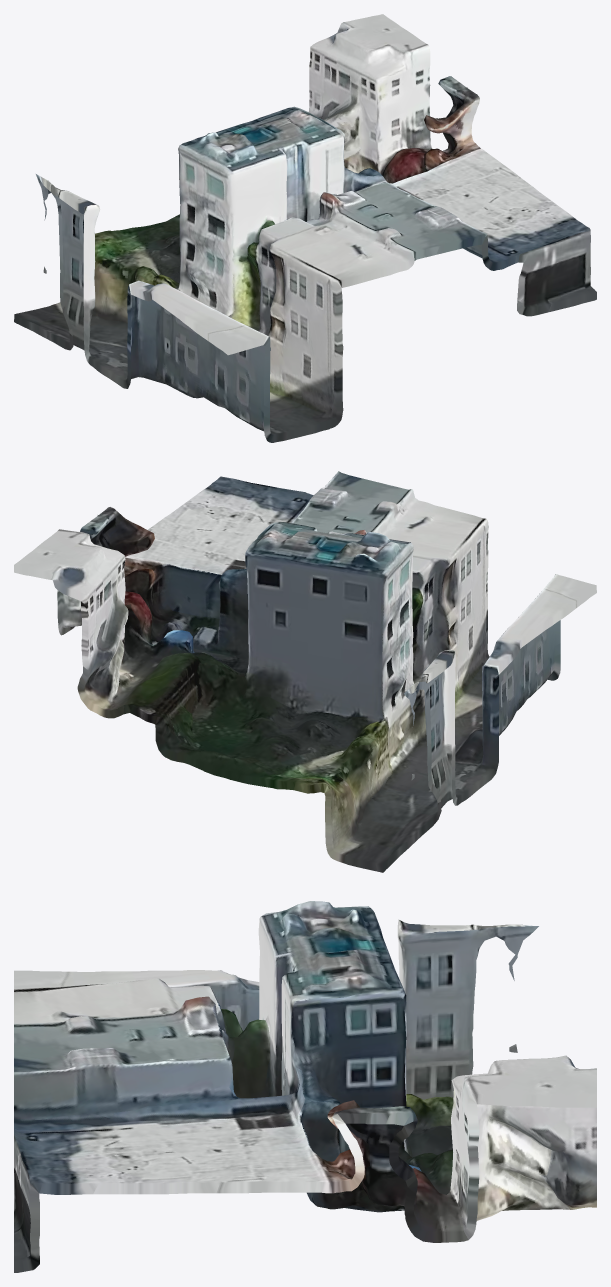
The model's file is z20-167747-405196-h0-yup-uvflip-v3-world.glb.
3 views of the same model, one above another, from view 1: azimuth 30°, elevation 25°; view 2: azimuth 150°, elevation 25°; view 3: azimuth 270°, elevation 25° (orthographic). The views are drawn at different scales.
Bounding box in the file's own units: 30.2 × 17.88 × 30.32.
Materials: 1 (1 with a texture image).
